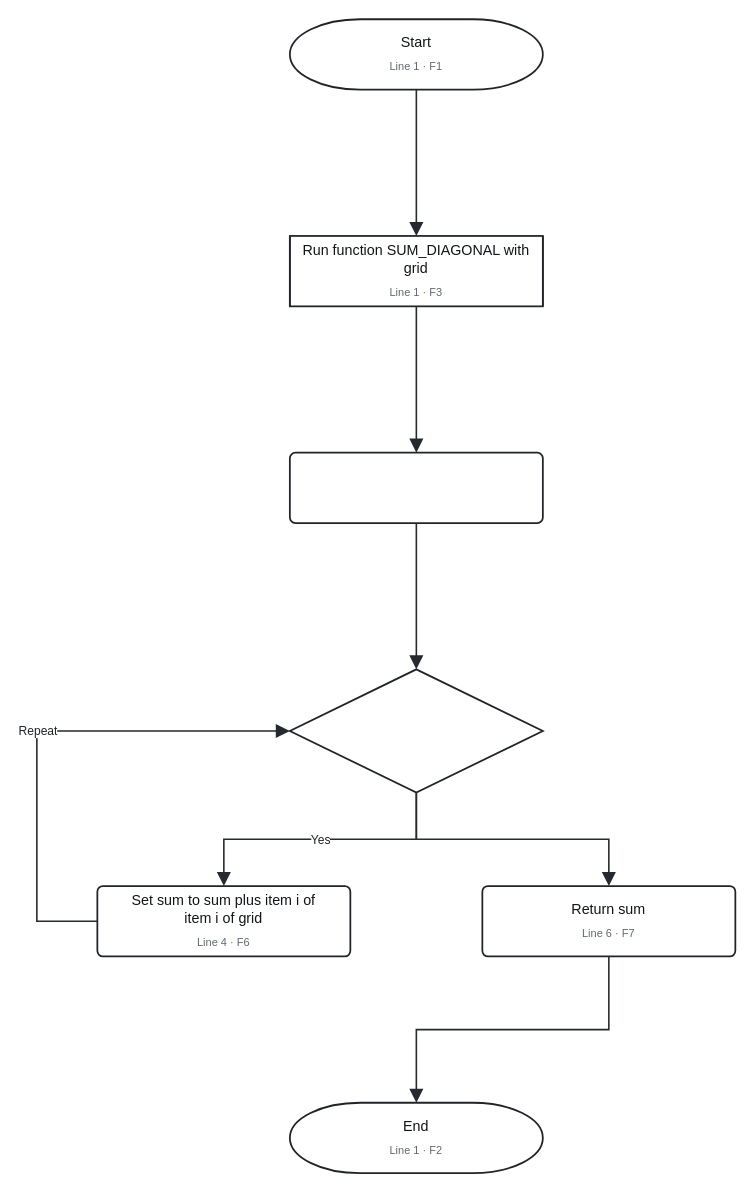
This 756x1194 diagram has some shape labels left out. Each missing label, with the centre of its shape:
For i from 0 to the length of grid minus 1 plus 1 Line 3 · F5: (415,730)
Set sum to 0 Line 2 · F4: (415,487)
